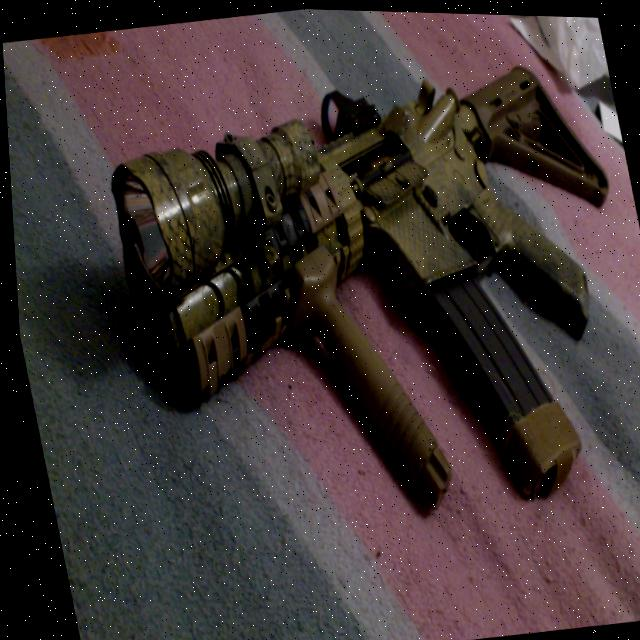firearm: (84, 42, 640, 553)
